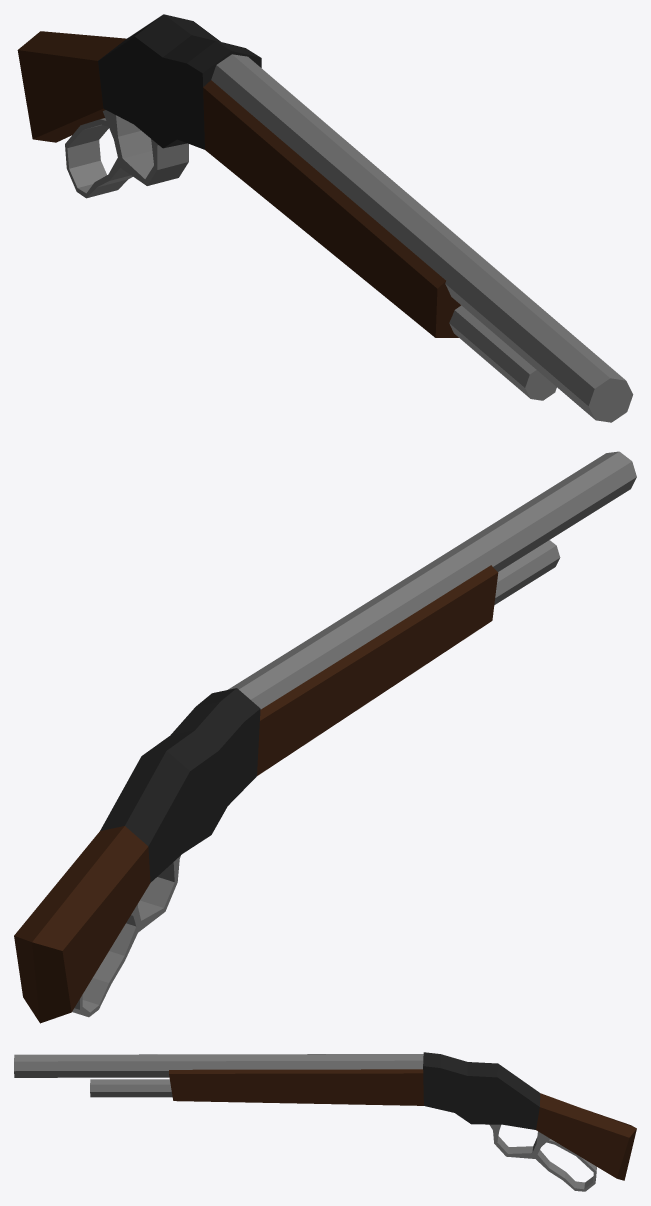
Rendered from SingleShotgun.glb.
3 views of the same model, one above another, from view 1: azimuth 30°, elevation 25°; view 2: azimuth 150°, elevation 25°; view 3: azimuth 270°, elevation 25° (orthographic). The views are drawn at different scales.
Visible parts, largest first — view 1: Arms; view 2: Arms; view 3: Arms.
Boxes of the visible parts, bbox=[...] form: Arms: bbox=[17, 14, 633, 422]; Arms: bbox=[14, 451, 636, 1023]; Arms: bbox=[14, 1052, 636, 1191].
Size of the model in its own units: 0.0767 by 0.1838 by 0.7931.
